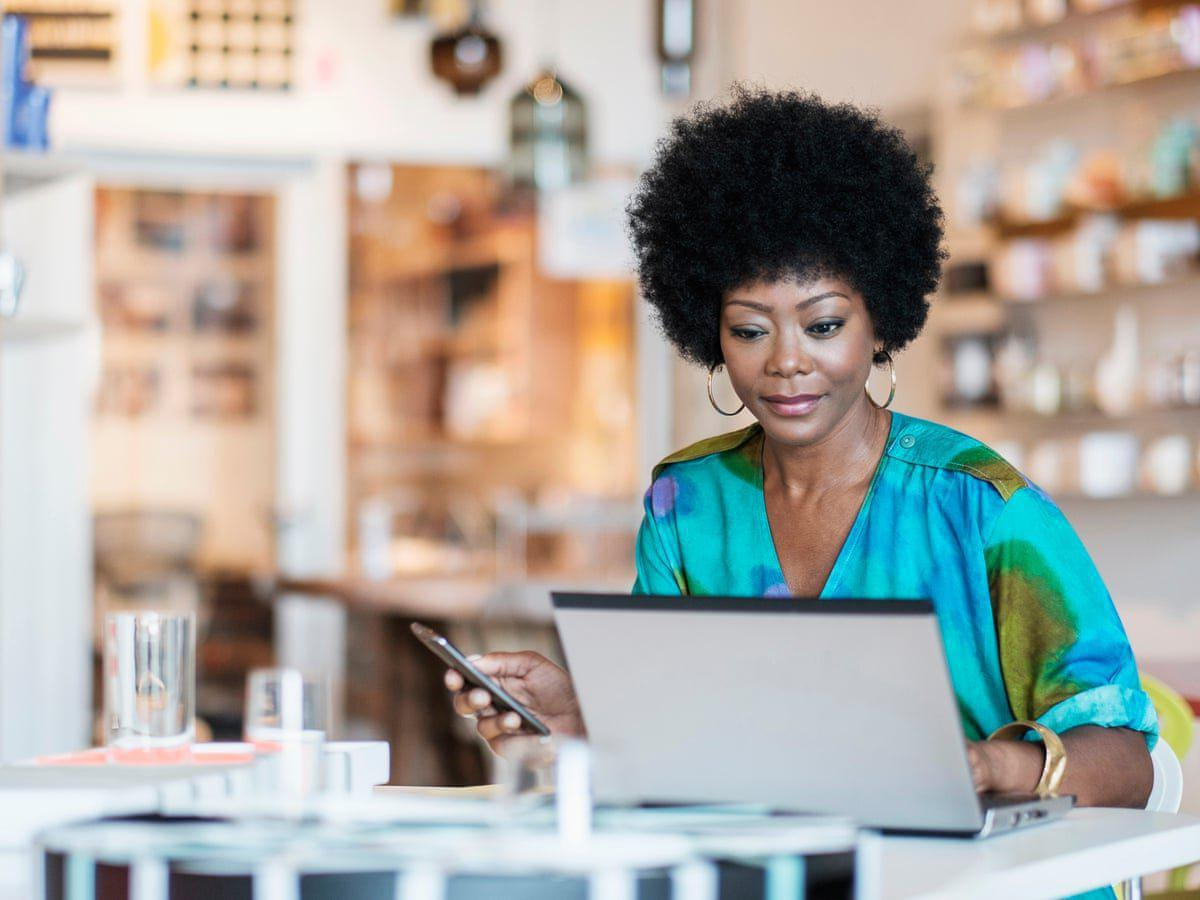Sober: (721, 280, 865, 435)
